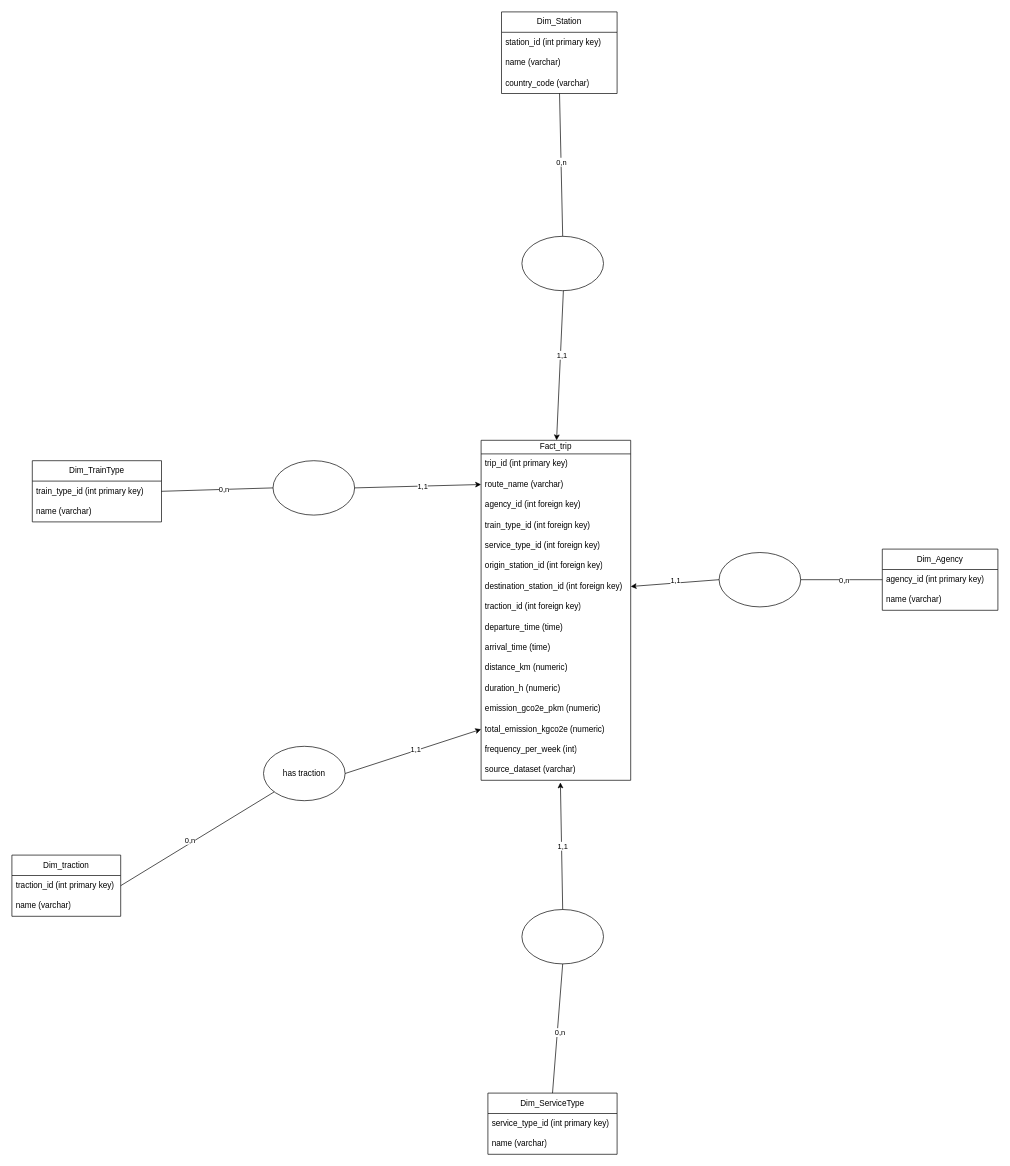
This 1010x1166 diagram has some shape labels left out. The shapes that lost their labels are listed below. From the top down, each one's box as (x1, y1, x2, y2) in pixels, then its label:
(521, 236, 604, 291): is origin
(272, 460, 355, 515): has train type
(718, 552, 801, 607): operates
(521, 909, 604, 964): has service type
